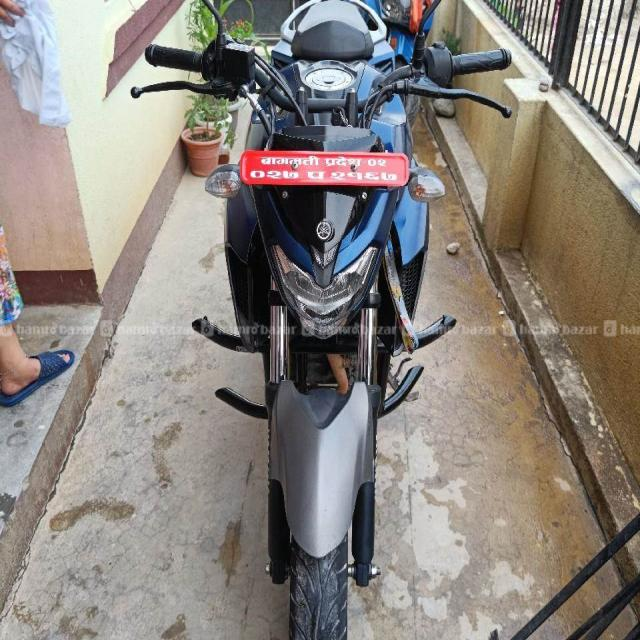License-plate: (242, 152, 409, 192)
